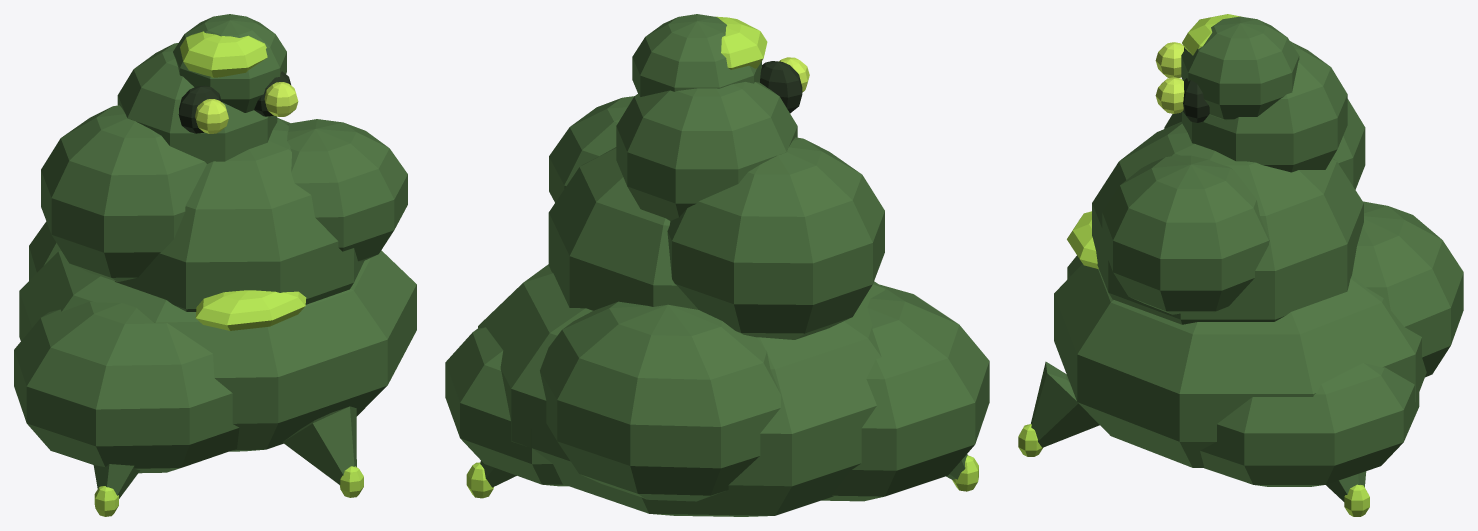
Rendered from bog_lurker.obj.
3 views of the same model, side by side, from view 1: azimuth 30°, elevation 25°; view 2: azimuth 150°, elevation 25°; view 3: azimuth 270°, elevation 25° (orthographic). The views are drawn at different scales.
Parts seen in each view (by area): view 1: mass_base, mass_left, mass_mid, mass_shoulder, mass_slump, mass_crest, mass_top, gleam_pool, tendril_2, gleam_crest, socket_L, mass_back (+5 smaller); view 2: mass_back, mass_base, mass_shoulder, mass_left, mass_crest, mass_mid, mass_right, mass_top, mass_slump, gleam_crest, socket_L, drip_1; view 3: mass_base, mass_slump, mass_mid, mass_right, mass_back, mass_crest, mass_top, tendril_2, mass_shoulder, gleam_pool, eye_R, socket_R (+5 smaller).
Part boxes in pixels (left/top/right/bottom): mass_base: left=19, top=250, right=416, bottom=451; mass_left: left=14, top=301, right=239, bottom=473; mass_mid: left=114, top=118, right=364, bottom=311; mass_shoulder: left=41, top=105, right=206, bottom=281; mass_slump: left=287, top=119, right=407, bottom=261; mass_crest: left=117, top=43, right=277, bottom=163; mass_top: left=173, top=14, right=286, bottom=112; gleam_pool: left=195, top=290, right=306, bottom=330; tendril_2: left=282, top=406, right=356, bottom=484; gleam_crest: left=180, top=31, right=267, bottom=77; socket_L: left=178, top=85, right=221, bottom=133; mass_back: left=29, top=221, right=60, bottom=280; mass_back: left=540, top=301, right=780, bottom=501; mass_base: left=478, top=264, right=885, bottom=516; mass_shoulder: left=667, top=137, right=884, bottom=339; mass_left: left=821, top=284, right=989, bottom=501; mass_crest: left=616, top=82, right=797, bottom=220; mass_mid: left=548, top=147, right=698, bottom=310; mass_right: left=445, top=327, right=568, bottom=486; mass_top: left=632, top=14, right=761, bottom=96; mass_slump: left=549, top=96, right=634, bottom=202; gleam_crest: left=716, top=16, right=767, bottom=69; socket_L: left=760, top=61, right=802, bottom=113; drip_1: left=466, top=462, right=493, bottom=498; mass_base: left=1054, top=263, right=1426, bottom=467; mass_slump: left=1102, top=155, right=1269, bottom=314; mass_mid: left=1092, top=121, right=1363, bottom=324; mass_right: left=1200, top=363, right=1419, bottom=486; mass_back: left=1352, top=201, right=1463, bottom=377; mass_crest: left=1182, top=41, right=1347, bottom=172; mass_top: left=1181, top=16, right=1299, bottom=120; tendril_2: left=1031, top=361, right=1099, bottom=447; mass_shoulder: left=1164, top=99, right=1365, bottom=189; gleam_pool: left=1067, top=211, right=1098, bottom=269; eye_R: left=1155, top=77, right=1184, bottom=113; socket_R: left=1183, top=78, right=1209, bottom=122.
Bounding box in the file's own units: 1.45 × 1.43 × 1.35.
